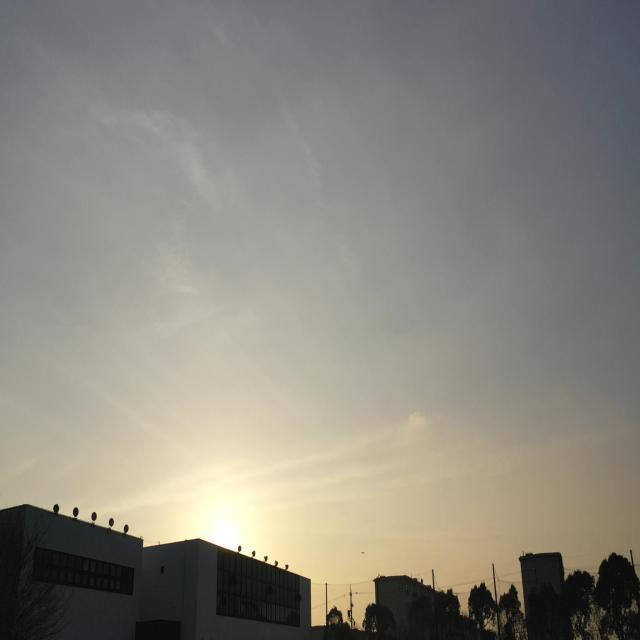Birds: (358, 545, 368, 559)
